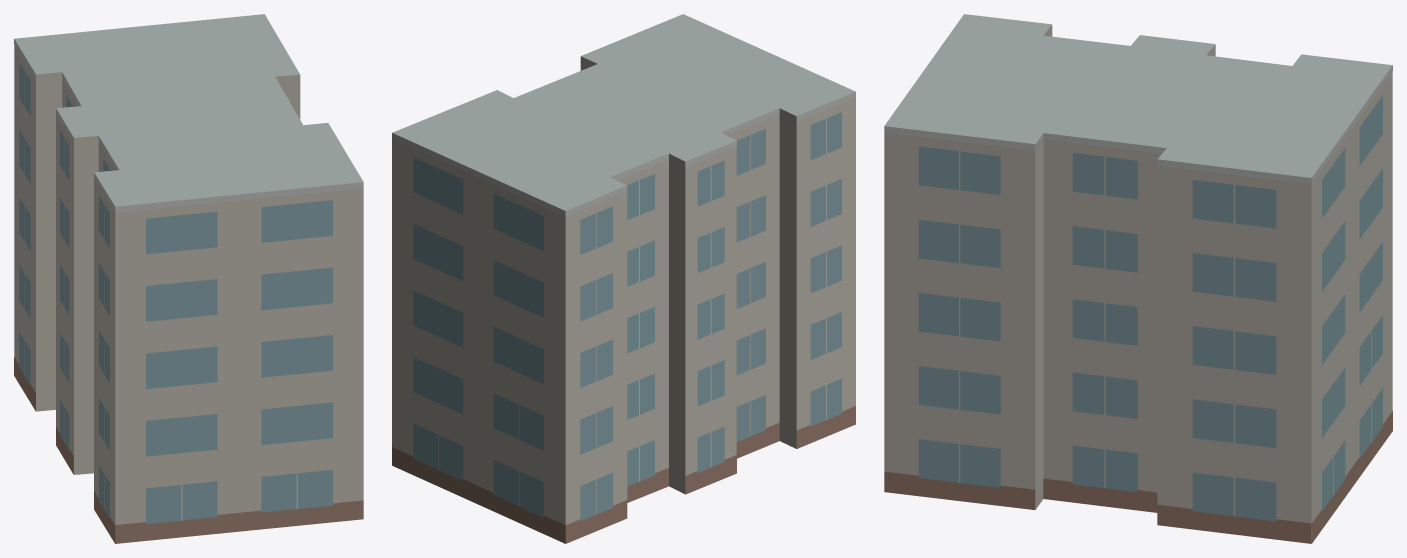
Rendered from survey-upis-32878544.glb.
3 renders of one model, left to right at view 1: azimuth 30°, elevation 25°; view 2: azimuth 150°, elevation 25°; view 3: azimuth 270°, elevation 25°, orthographic. The views are drawn at different scales.
Parts seen in each view (by area): view 1: survey-upis-32878544.tmp; view 2: survey-upis-32878544.tmp; view 3: survey-upis-32878544.tmp.
Boxes of the visible parts, box(x1,y1,x2,y2) form: survey-upis-32878544.tmp: box(14, 14, 363, 543); survey-upis-32878544.tmp: box(392, 14, 855, 543); survey-upis-32878544.tmp: box(884, 14, 1392, 543).
Bounding box in the file's own units: 13.75 × 14.3 × 18.02.
